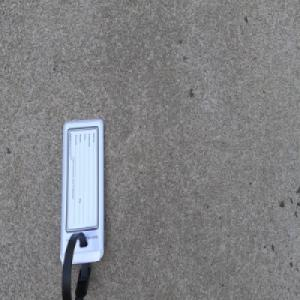LuggageTag: (59, 116, 107, 300)
